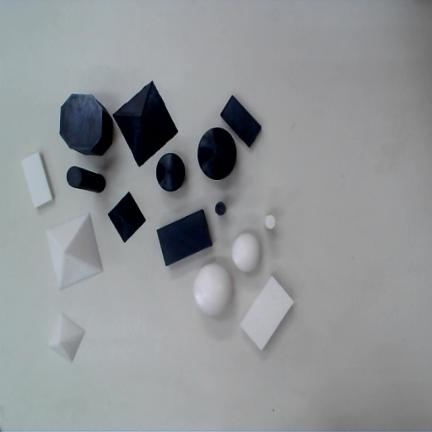Cilindro: (66, 166, 107, 193), (264, 214, 276, 230), (215, 202, 227, 216)
Esfera: (193, 263, 233, 316), (198, 127, 237, 180), (156, 153, 185, 192), (232, 233, 261, 272)
Paralelepipedo: (240, 275, 294, 351), (157, 208, 213, 267), (220, 95, 263, 149), (20, 151, 53, 209)
Piramide: (113, 81, 179, 168), (46, 213, 103, 288), (107, 191, 146, 243), (49, 314, 84, 362)
Prisma_hexagonal: (59, 94, 113, 156)
